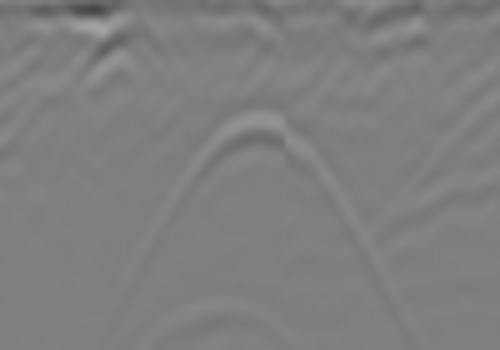hyperbola: (107, 98, 415, 316)
